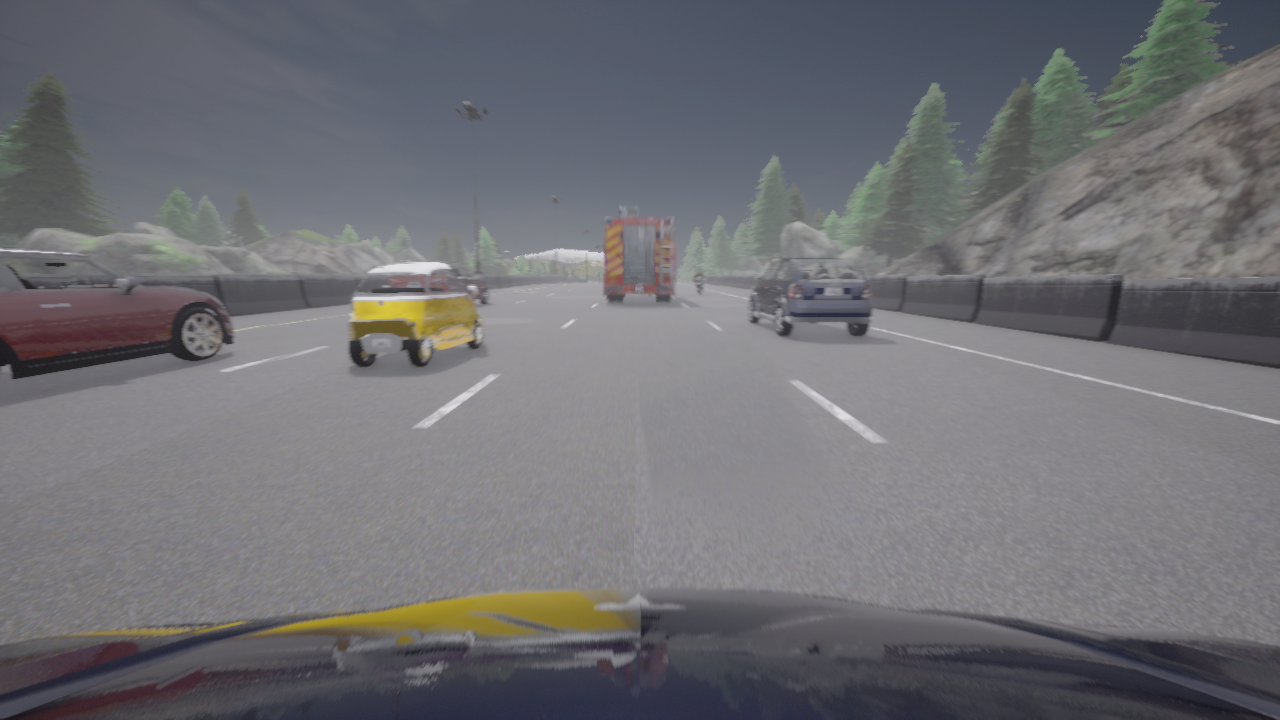cyclist: (0, 588, 1279, 719), (348, 262, 482, 367), (747, 257, 872, 336), (604, 206, 675, 301), (404, 260, 489, 304), (694, 276, 703, 293)
